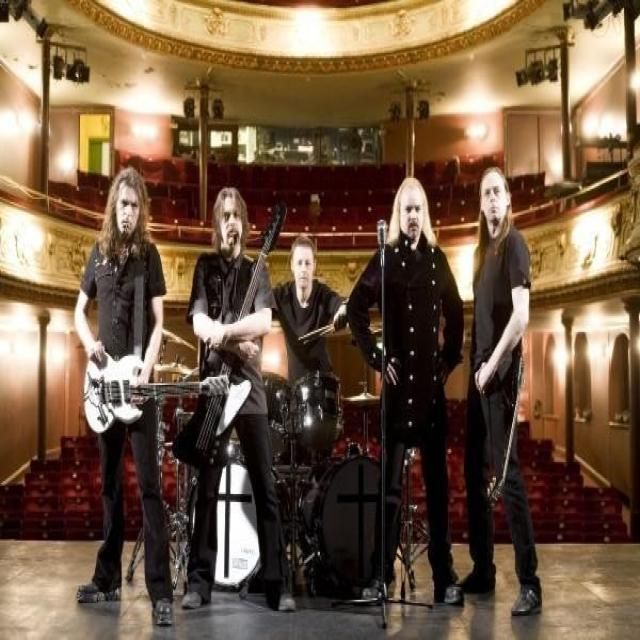drums: (147, 340, 409, 601)
guitar: (172, 194, 292, 472), (82, 354, 231, 436), (484, 348, 528, 510)
